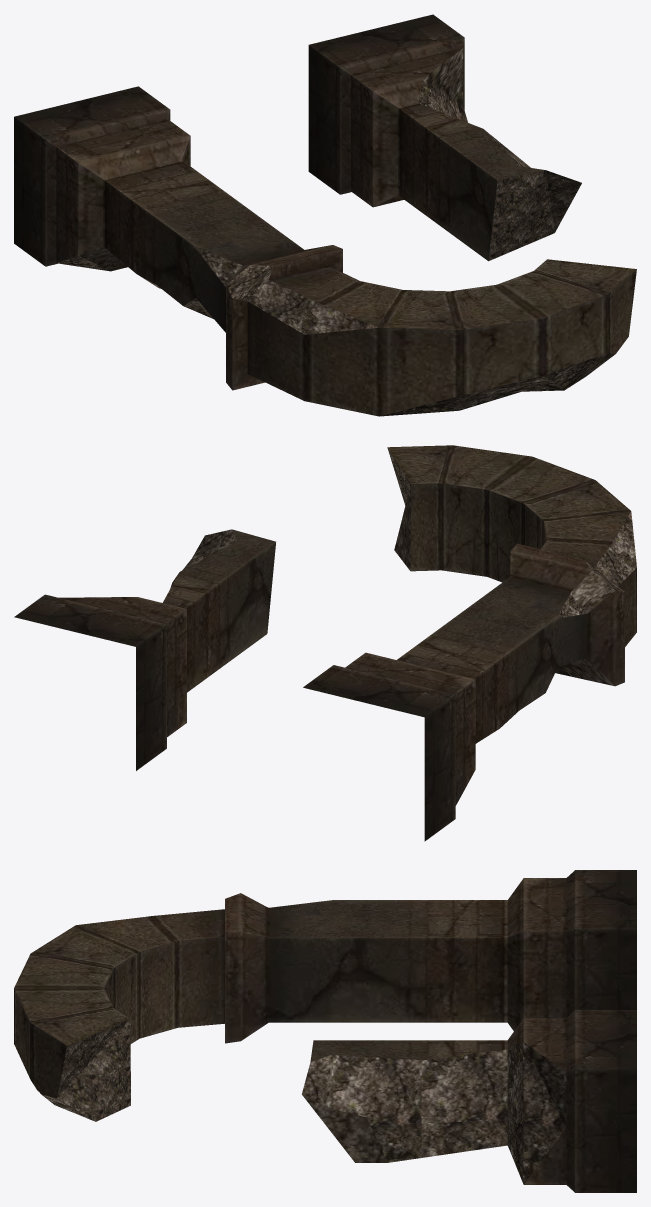
The picture shows the model from 3 angles, top to bottom: view 1: azimuth 30°, elevation 25°; view 2: azimuth 150°, elevation 25°; view 3: azimuth 270°, elevation 25°; orthographic projection. The views are drawn at different scales.
Parts seen in each view (by area): view 1: model_Object11; view 2: model_Object11; view 3: model_Object11.
Part boxes in pixels (left/top/right/bottom): model_Object11: left=14, top=14, right=636, bottom=416; model_Object11: left=14, top=445, right=636, bottom=841; model_Object11: left=14, top=870, right=636, bottom=1192.
Bounding box in the file's own units: 1.98 × 0.572 × 2.61.
Materials: 2 (2 with a texture image).
